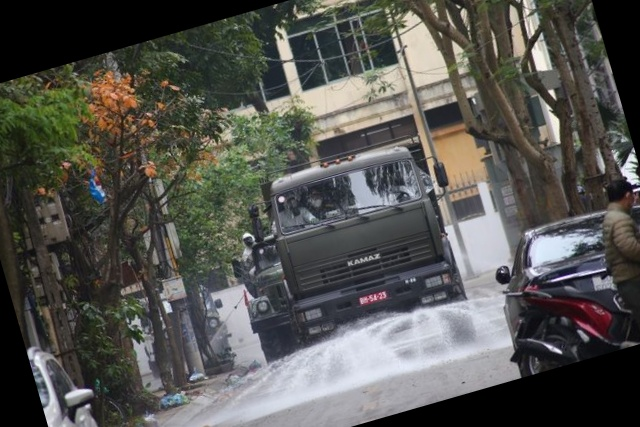plate: (358, 289, 389, 312)
